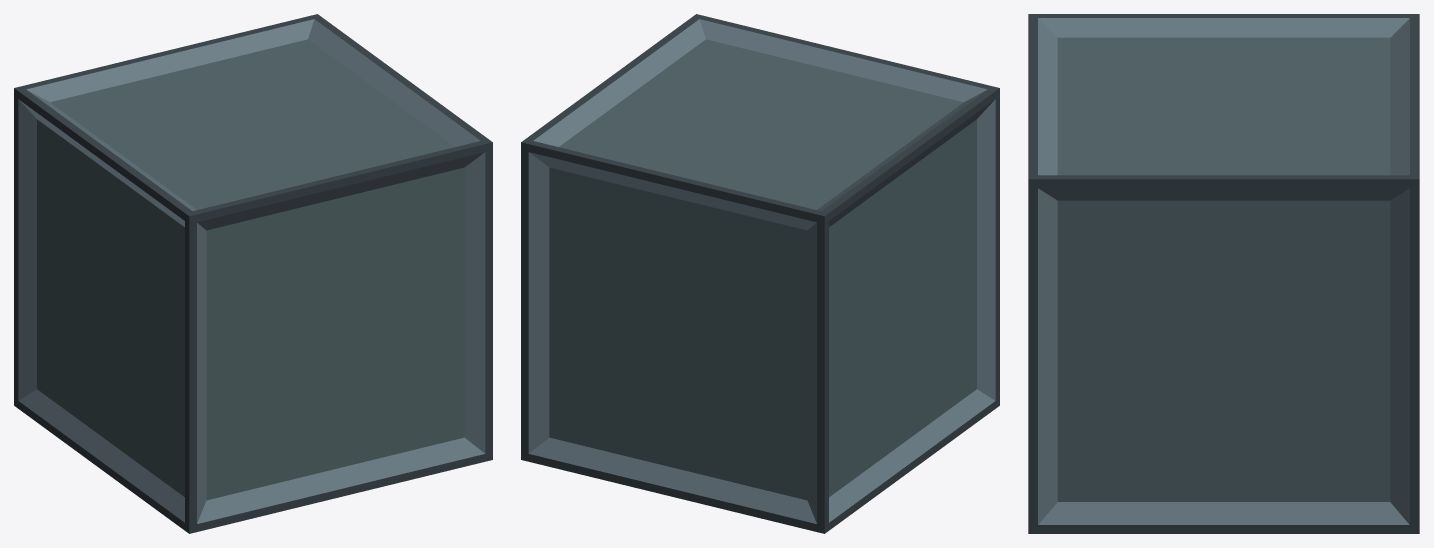
Rendered from light-block.glb.
3 views of the same model, side by side, from view 1: azimuth 30°, elevation 25°; view 2: azimuth 150°, elevation 25°; view 3: azimuth 270°, elevation 25° (orthographic). The views are drawn at different scales.
Parts seen in each view (by area): view 1: light-block; view 2: light-block; view 3: light-block.
Part boxes in pixels (x1,y1,x2,y2): light-block: (14, 14, 492, 533); light-block: (521, 14, 999, 533); light-block: (1028, 14, 1419, 533).
Bounding box in the file's own units: 1 × 1 × 1.
